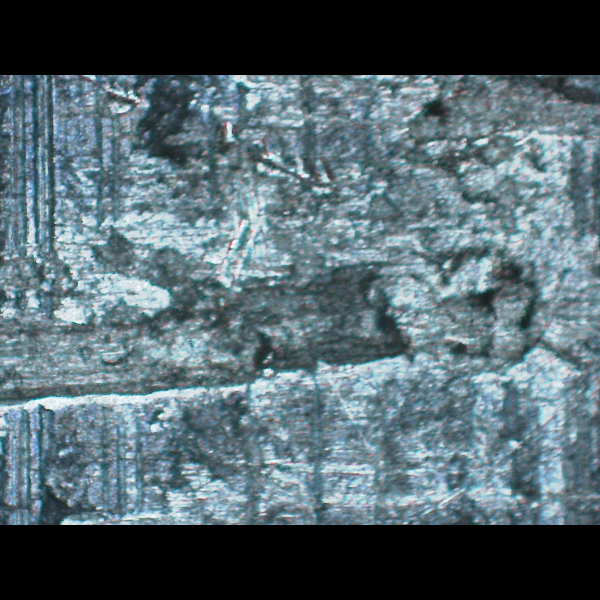d: (0, 219, 551, 426)
